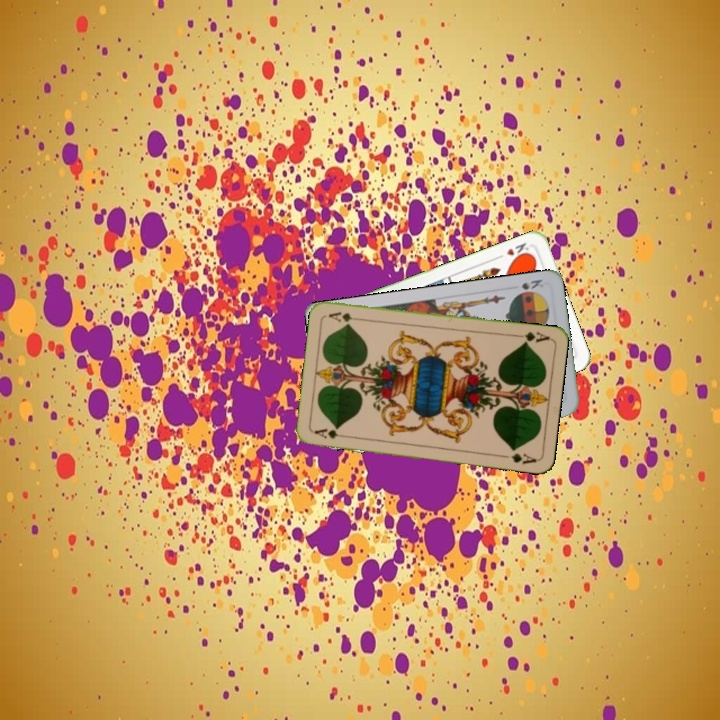GA: (511, 327, 552, 346), (310, 424, 351, 441)
HK: (493, 239, 534, 262)
SK: (517, 275, 546, 292)
